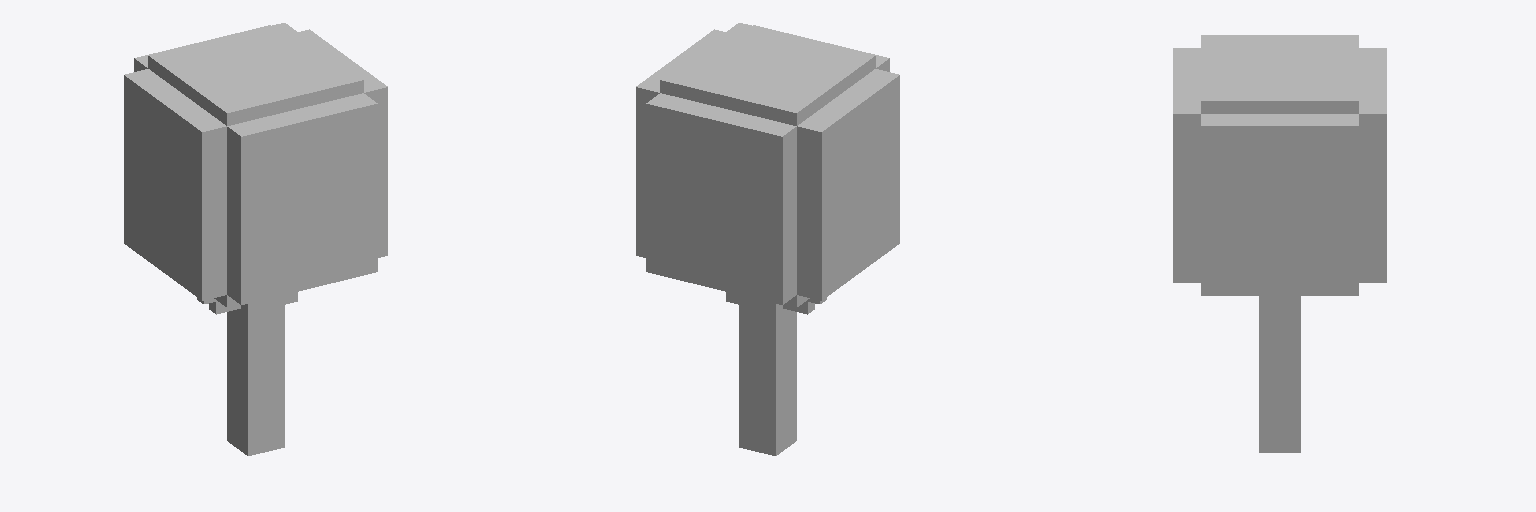
The model's file is arvore1.obj.
3 views of the same model, side by side, from view 1: azimuth 30°, elevation 25°; view 2: azimuth 150°, elevation 25°; view 3: azimuth 270°, elevation 25° (orthographic).
Parts seen in each view (by area): view 1: object 1; view 2: object 1; view 3: object 1.
Part boxes in pixels (x1,y1,x2,y2): object 1: (124, 23, 387, 455); object 1: (636, 23, 899, 455); object 1: (1173, 35, 1386, 452).
Size of the model in its own units: 1.5 by 2.9 by 1.5.